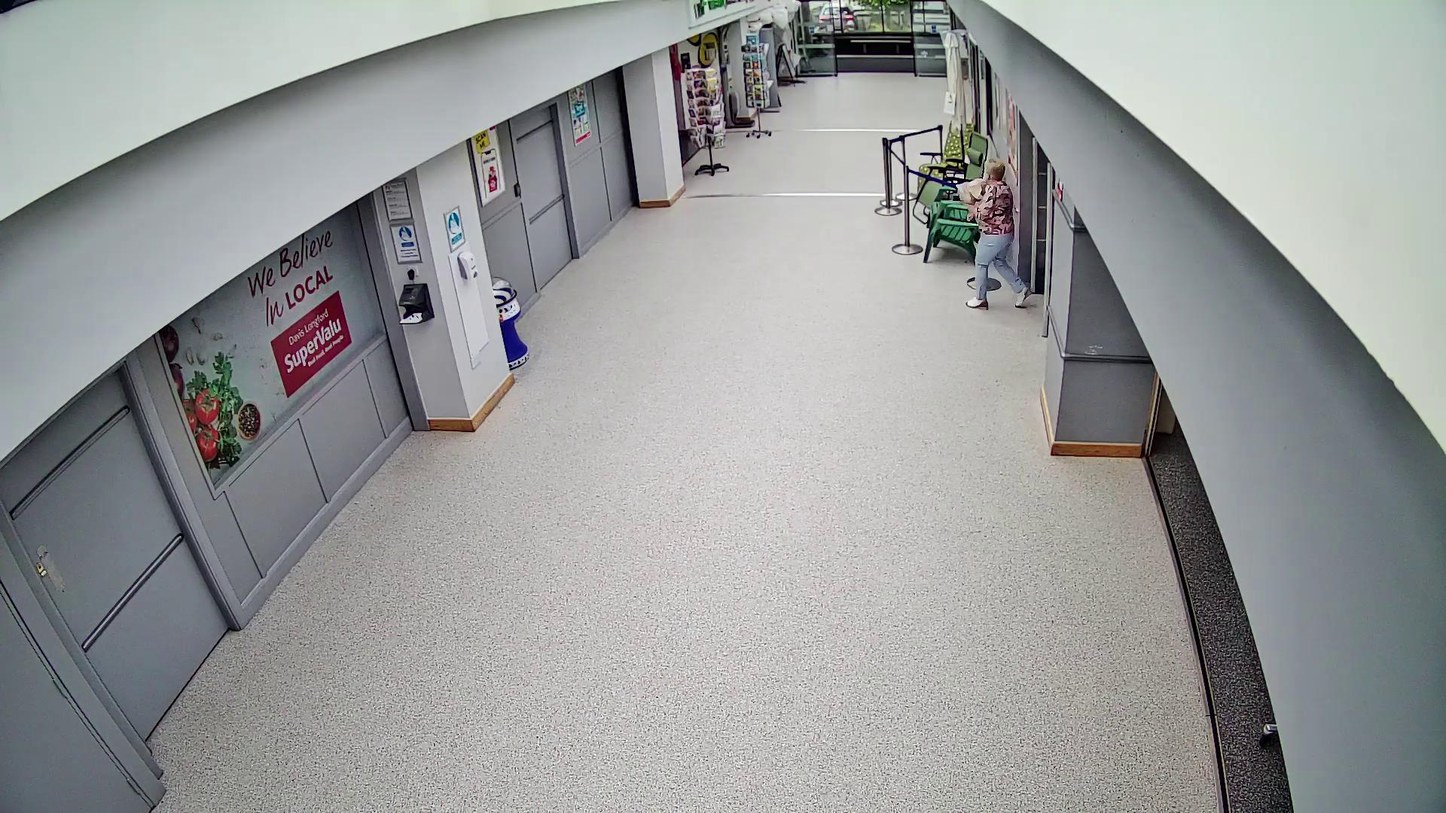filled-shopping-bags: (956, 178, 985, 221)
person: (967, 159, 1032, 311)
person-with-filled-shopping-bag-s-: (956, 159, 1033, 310)
